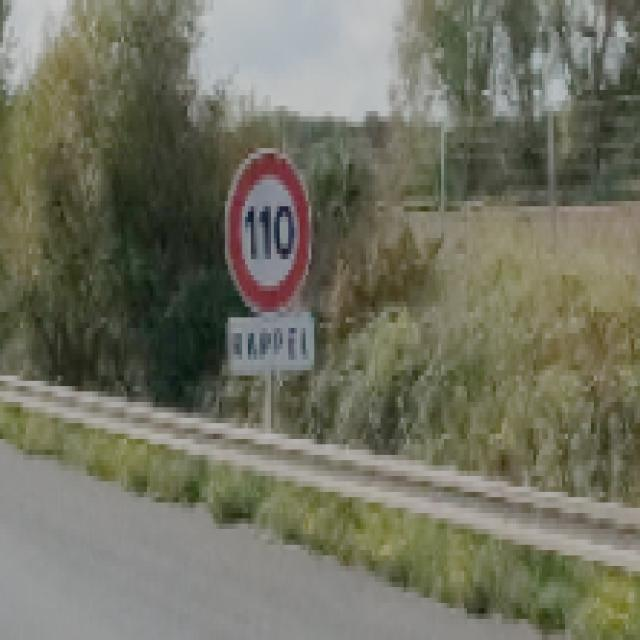speed_110: (224, 149, 314, 319)
